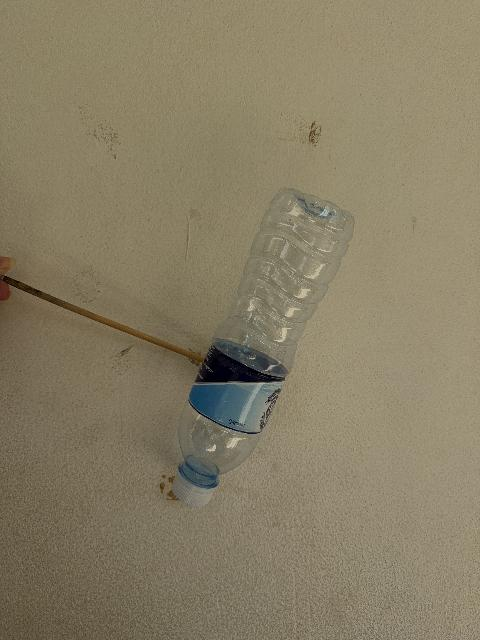bottle: (172, 189, 353, 505)
